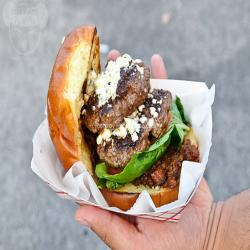burger: (42, 22, 209, 216)
